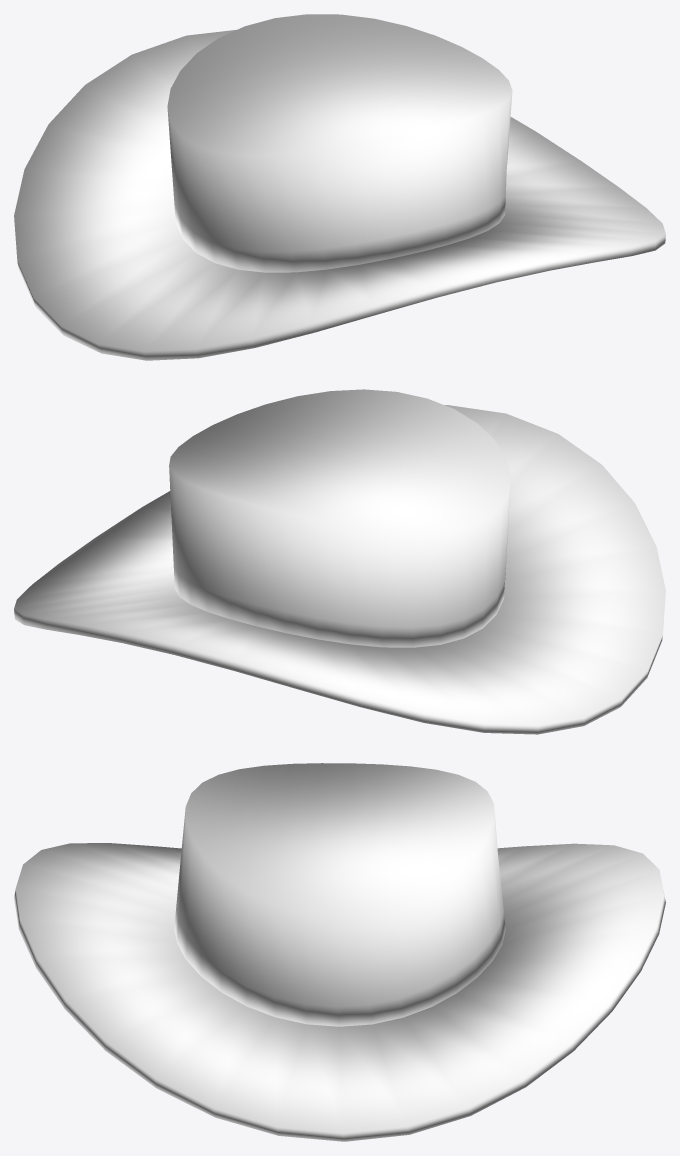
The model's file is Cowboy_Gris.fbx.
3 views of the same model, one above another, from view 1: azimuth 30°, elevation 25°; view 2: azimuth 150°, elevation 25°; view 3: azimuth 270°, elevation 25° (orthographic).
Visible parts, largest first — view 1: Circle.001; view 2: Circle.001; view 3: Circle.001.
Boxes of the visible parts, box(x1,y1,x2,y2) form: Circle.001: box(14, 14, 665, 360); Circle.001: box(14, 389, 665, 734); Circle.001: box(14, 763, 665, 1141).
Size of the model in its own units: 198 by 63.91 by 197.
